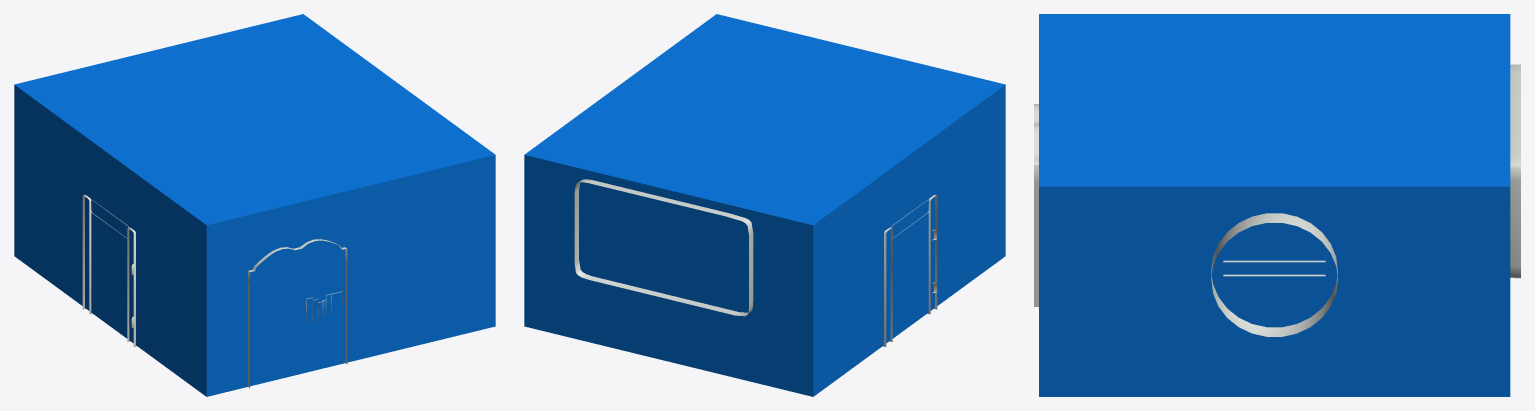
The model's file is pirate room.fbx.
3 views of the same model, side by side, from view 1: azimuth 30°, elevation 25°; view 2: azimuth 150°, elevation 25°; view 3: azimuth 270°, elevation 25° (orthographic). The views are drawn at different scales.
Parts seen in each view (by area): view 1: Plane.002; view 2: Plane.002; view 3: Plane.002.
Part boxes in pixels (<box>): Plane.002: <box>14,14,495,396</box>; Plane.002: <box>524,14,1005,396</box>; Plane.002: <box>1034,14,1520,396</box>.
Size of the model in its own units: 5.55 by 3.01 by 6.2.
